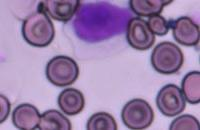M: (64, 0, 134, 60)
